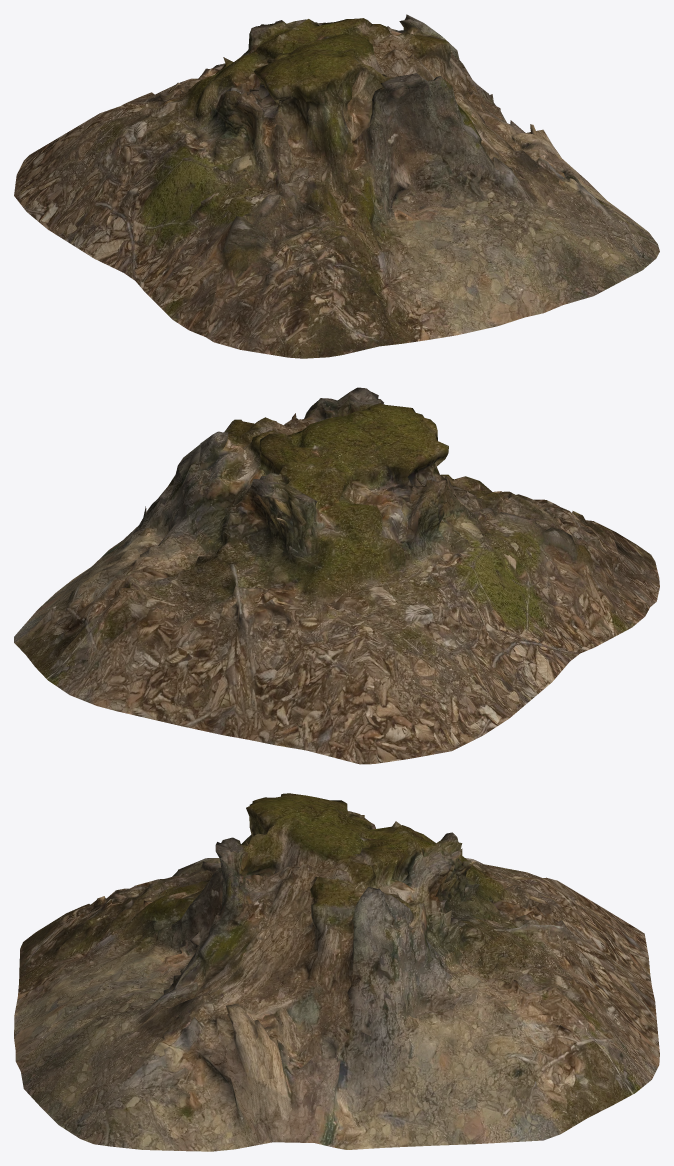
Rendered from tree_stump_01.5c886b897c.glb.
3 renders of one model, top to bottom at view 1: azimuth 30°, elevation 25°; view 2: azimuth 150°, elevation 25°; view 3: azimuth 270°, elevation 25°, orthographic. The views are drawn at different scales.
Visible parts, largest first — view 1: tree_stump_01; view 2: tree_stump_01; view 3: tree_stump_01.
Part boxes in pixels (bbox=[...]): tree_stump_01: bbox=[14, 14, 659, 358]; tree_stump_01: bbox=[14, 387, 659, 764]; tree_stump_01: bbox=[14, 793, 659, 1151].
Bounding box in the file's own units: 1.43 × 0.5709 × 1.59.
Materials: 1 (1 with a texture image).
